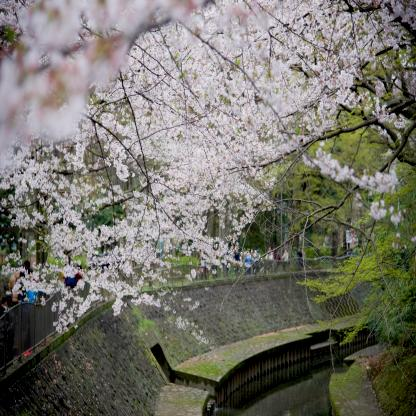Someiyoshino: (3, 4, 414, 323)
